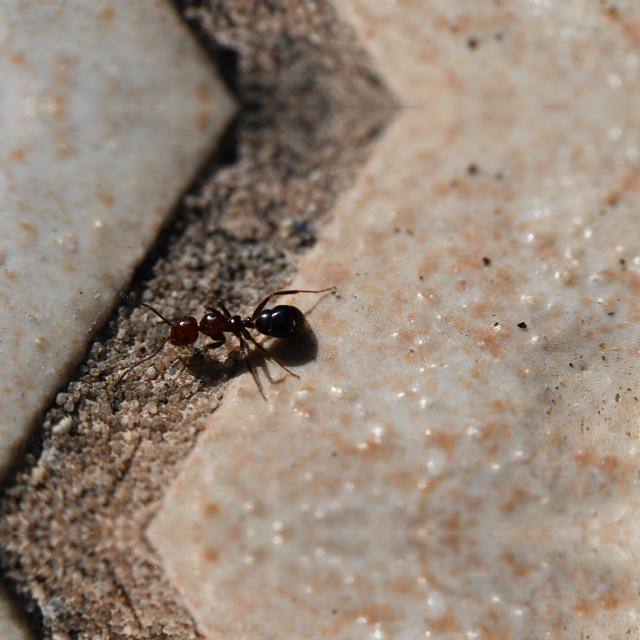Camponotus: (147, 290, 316, 358)
